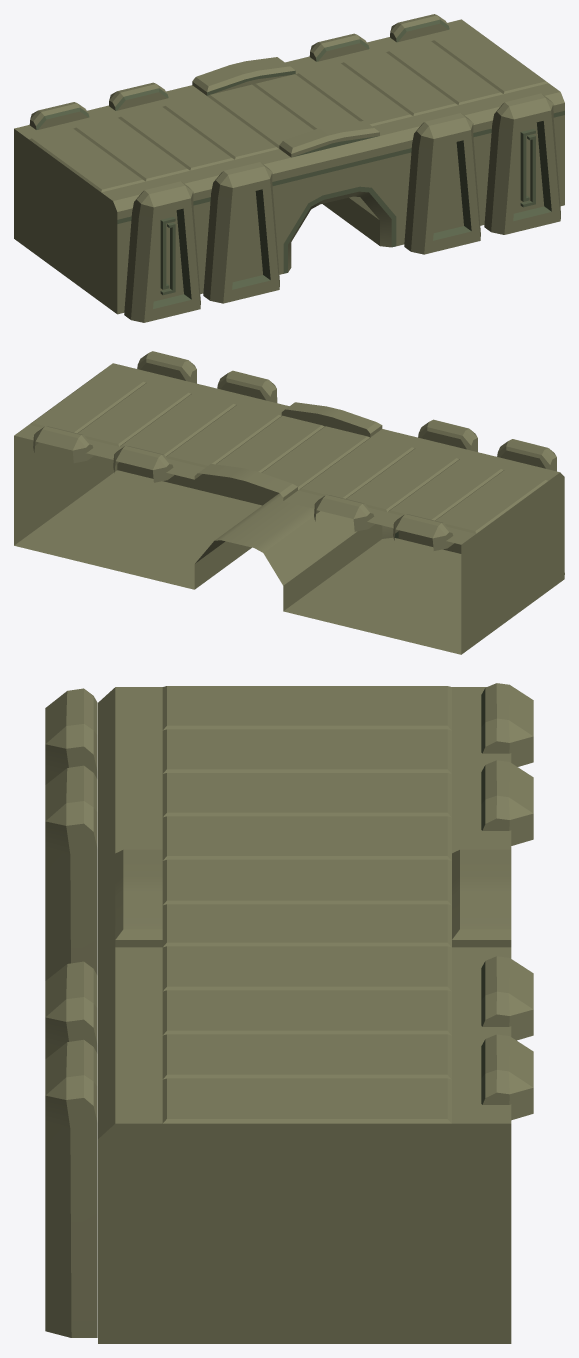
The model's file is Rock_Bridge03.fbx.
3 views of the same model, one above another, from view 1: azimuth 30°, elevation 25°; view 2: azimuth 150°, elevation 25°; view 3: azimuth 270°, elevation 25° (orthographic). The views are drawn at different scales.
Visible parts, largest first — view 1: bridge4_main, bridge4_pilar1, bridge4_pilar3, bridge4_pilar2, bridge4_pilar4; view 2: bridge4_main, bridge4_pilar3, bridge4_pilar4, bridge4_pilar1, bridge4_pilar2; view 3: bridge4_main, bridge4_pilar4, bridge4_pilar2, bridge4_pilar3, bridge4_pilar1.
Boxes of the visible parts, box(x1,y1,x2,y2) form: bridge4_main: box(14, 19, 564, 314); bridge4_pilar1: box(29, 102, 200, 322); bridge4_pilar3: box(309, 33, 480, 254); bridge4_pilar2: box(109, 82, 279, 303); bridge4_pilar4: box(390, 14, 560, 234); bridge4_main: box(14, 363, 564, 654); bridge4_pilar3: box(113, 370, 277, 482); bridge4_pilar4: box(33, 351, 196, 463); bridge4_pilar1: box(393, 439, 564, 574); bridge4_pilar2: box(314, 419, 477, 531); bridge4_main: box(98, 686, 511, 1343); bridge4_pilar4: box(45, 1034, 533, 1337); bridge4_pilar2: box(45, 760, 533, 980); bridge4_pilar3: box(45, 956, 533, 1058); bridge4_pilar1: box(45, 683, 533, 784).
Bounding box in the file's own units: 15 × 4.03 × 7.09.
